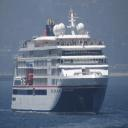cruises: (10, 6, 111, 116)
